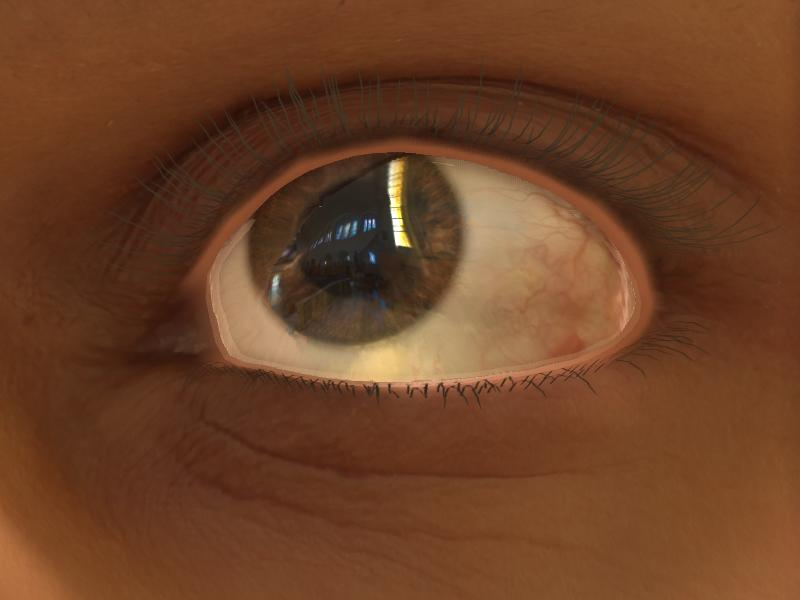eye: (249, 150, 467, 341)
